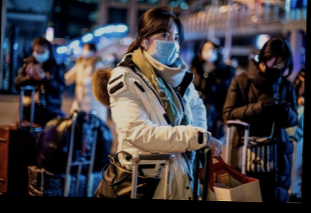with_mask: (149, 28, 181, 66), (261, 60, 288, 80), (31, 47, 50, 65), (200, 44, 219, 62)
